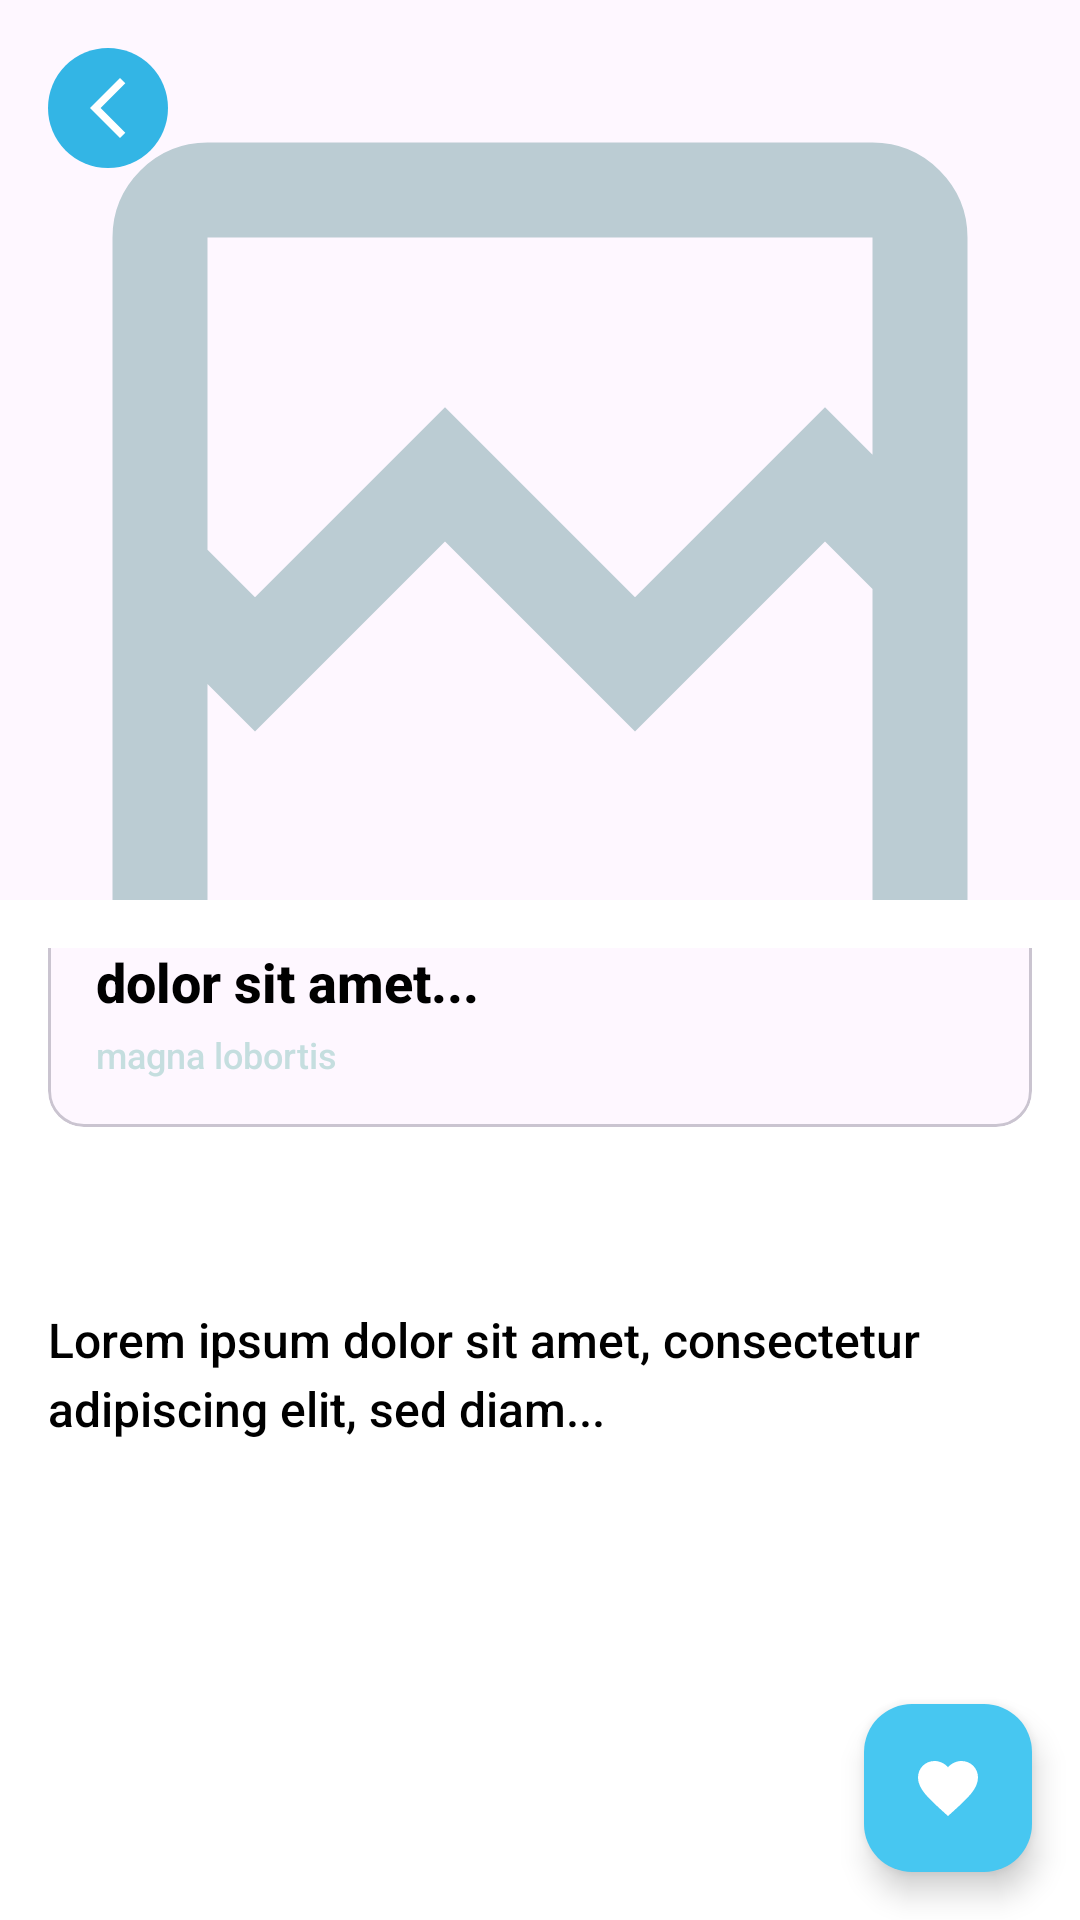

Named icons in this screenshot (1080px x 1920px) and their centers, (x=x, y=y):
Back: (x=108, y=108)
favorite: (x=948, y=1788)
